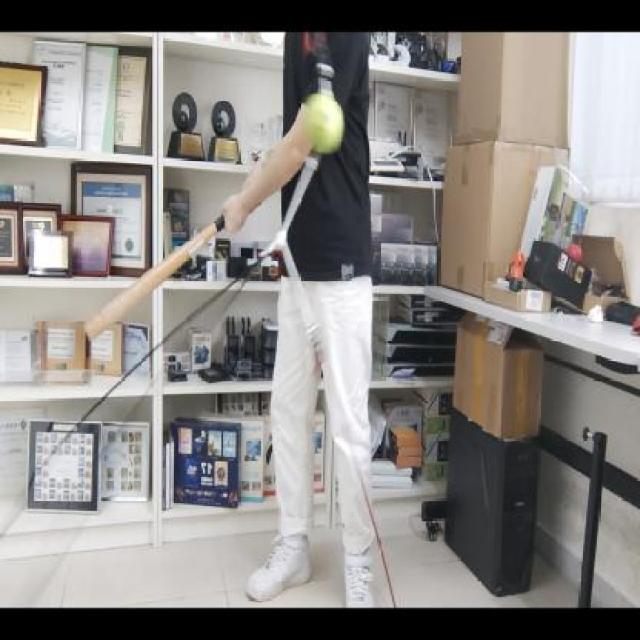baseball: (305, 92, 347, 154)
